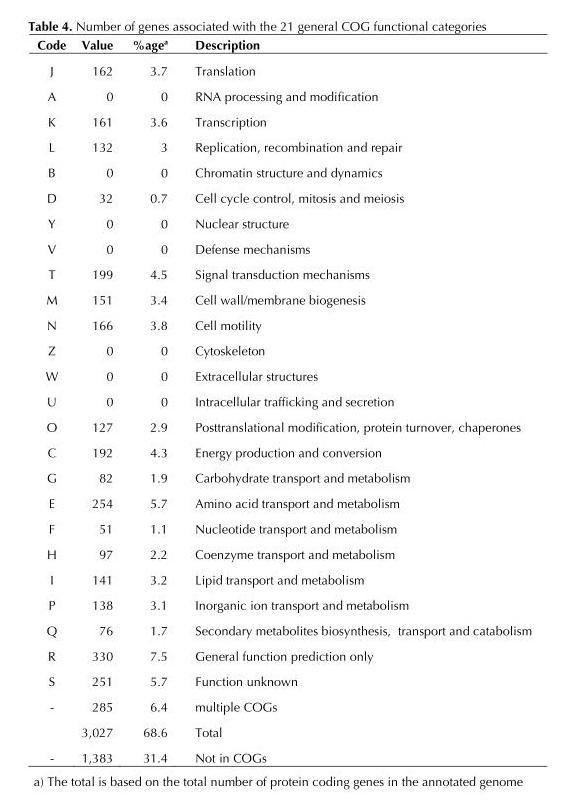table: (36, 36, 531, 764)
table column: (180, 36, 531, 764), (121, 36, 180, 764), (72, 36, 121, 764), (36, 36, 72, 764)
table column header: (36, 36, 531, 57)
table row: (36, 57, 531, 83), (36, 108, 531, 134), (36, 184, 531, 210), (36, 235, 531, 261), (36, 286, 531, 312), (36, 362, 531, 388), (36, 413, 531, 439), (36, 464, 531, 490), (36, 515, 531, 541), (36, 591, 531, 617), (36, 642, 531, 668), (36, 693, 531, 719), (36, 83, 531, 108), (36, 134, 531, 159), (36, 159, 531, 184), (36, 210, 531, 235), (36, 261, 531, 286), (36, 312, 531, 337), (36, 337, 531, 362), (36, 388, 531, 413), (36, 439, 531, 464), (36, 490, 531, 515), (36, 541, 531, 566), (36, 566, 531, 591), (36, 617, 531, 642), (36, 668, 531, 693), (36, 719, 531, 744), (36, 36, 531, 57), (36, 744, 531, 764)
table spanning cell: (36, 693, 72, 744)
